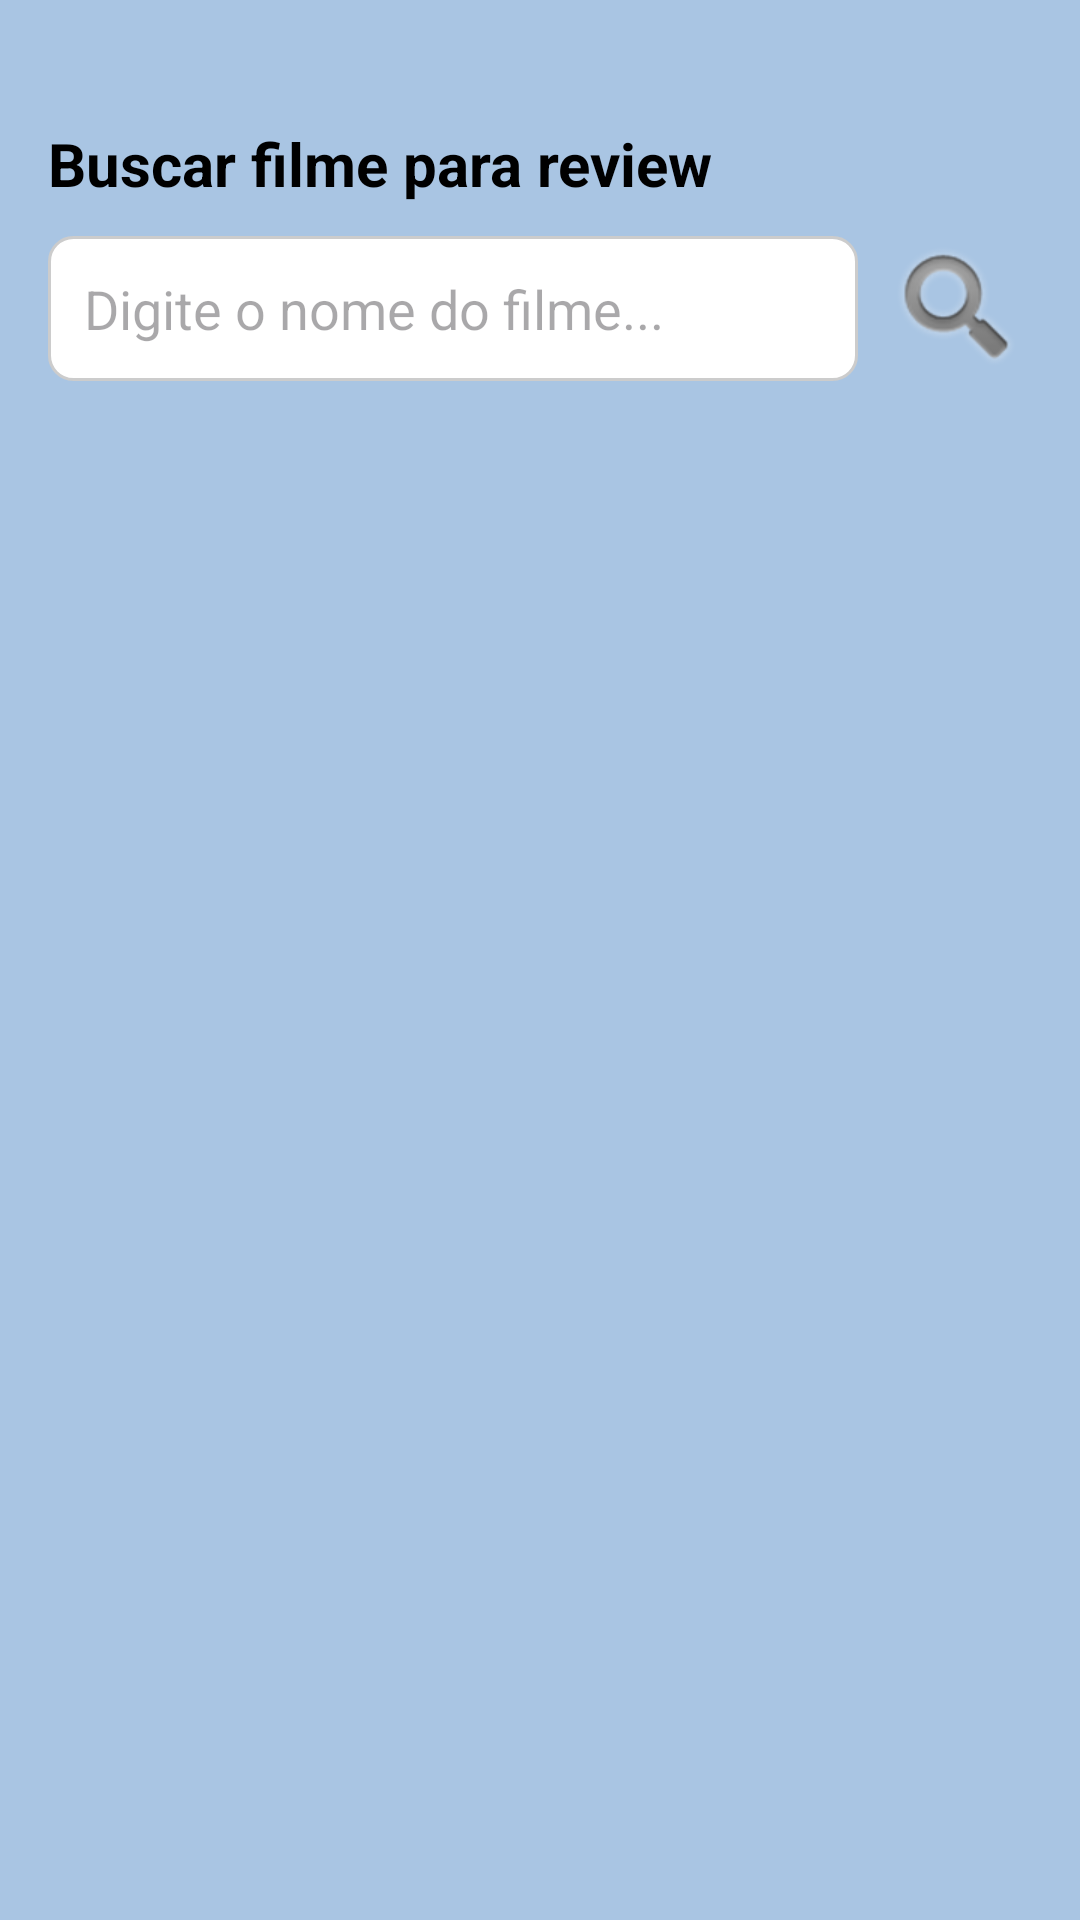

Where to tap for icons on this 1080 × 1920 app screen, as point (x, y):
Botão de Busca: point (956, 306)
